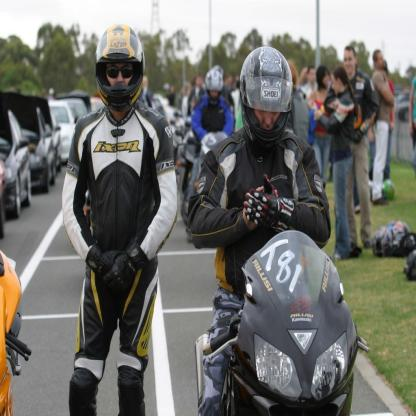Helmet: (238, 43, 292, 148), (93, 23, 144, 110), (203, 69, 226, 103), (212, 64, 226, 84)
